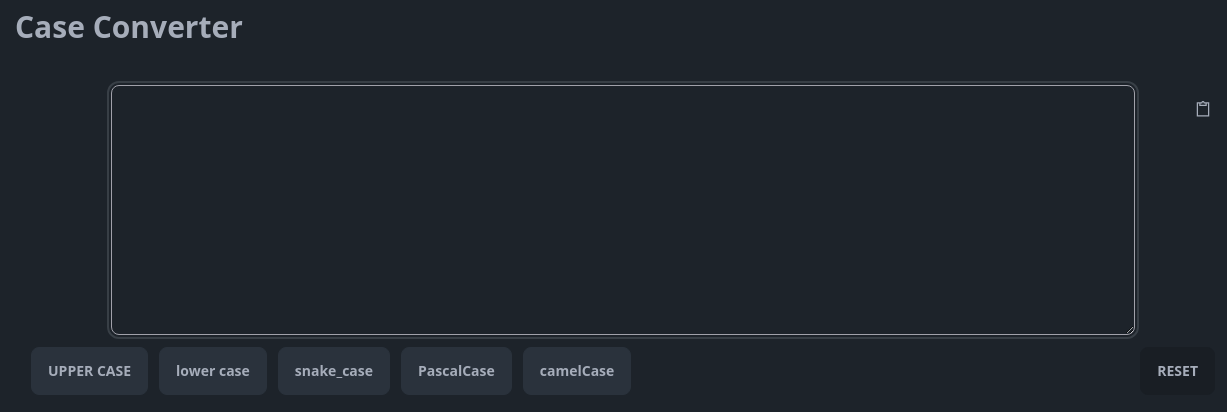
Scenario: App › transforms the textarea value to camel case when 'camelCase' button is clicked
The image size is (1227, 412).
Type "This Is A Mock Sentence With Ten Words Exactly" into the text box.
click(623, 210); type("This Is A Mock Sentence With Ten Words Exactly")  # box [111,85,1135,335]
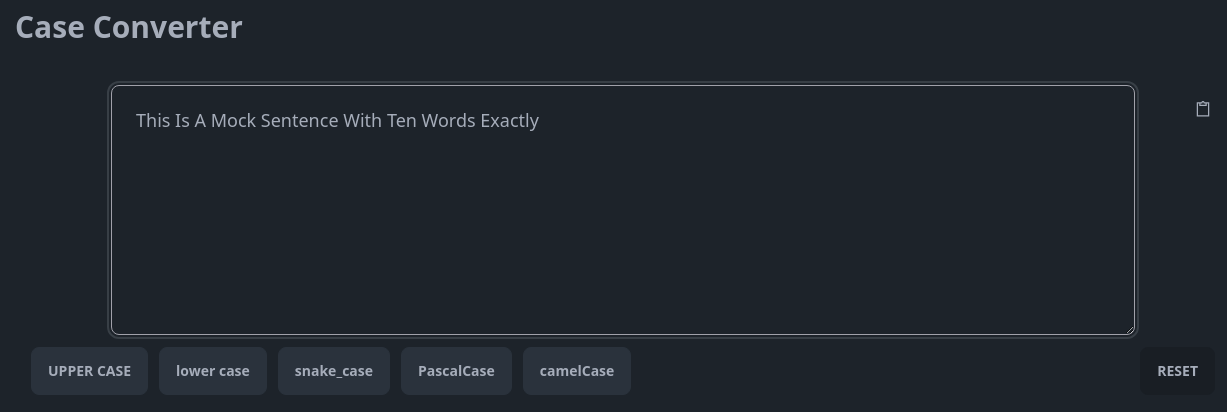
Click the button "camelCase".
click(577, 371)  # box [523,347,631,395]
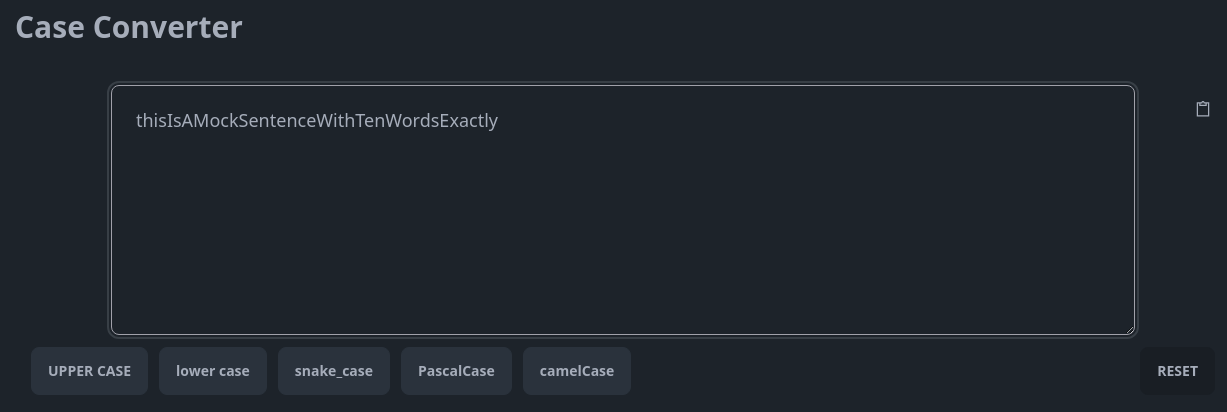
Now the text box holds "thisIsAMockSentenceWithTenWordsExactly", box [111,85,1135,335]
